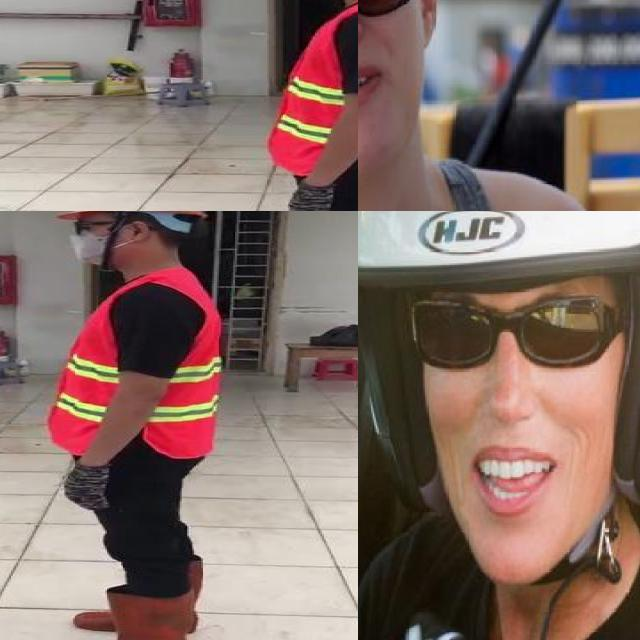boots: (50, 588, 188, 640)
face_mask: (68, 214, 142, 266)
face_nomask: (407, 296, 615, 523), (358, 0, 425, 123)
glasses: (401, 275, 640, 374)
hand_glove: (358, 594, 488, 640), (64, 462, 118, 512), (286, 180, 334, 211)
head_helmet: (358, 211, 640, 317), (61, 211, 212, 225)
person: (12, 211, 236, 640), (358, 0, 593, 211), (240, 0, 358, 211)
vest: (146, 275, 239, 460), (269, 0, 358, 175), (46, 288, 125, 459)
